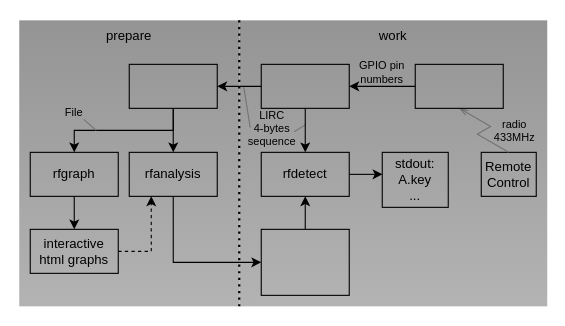
This 565x326 diagram has some shape labels left out. The centre of each missing label's shape, as x and y in pixels:
"./keys A.key ..." goes at (304,261).
"433MHz RX module" goes at (458,85).
"kernel: /dev/rfctl" goes at (304,85).
"rfdump" goes at (172,85).
